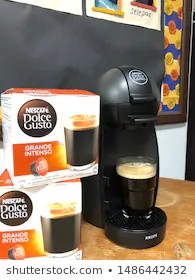nescafe-dolce-big: (8, 88, 101, 186), (1, 178, 85, 259)
